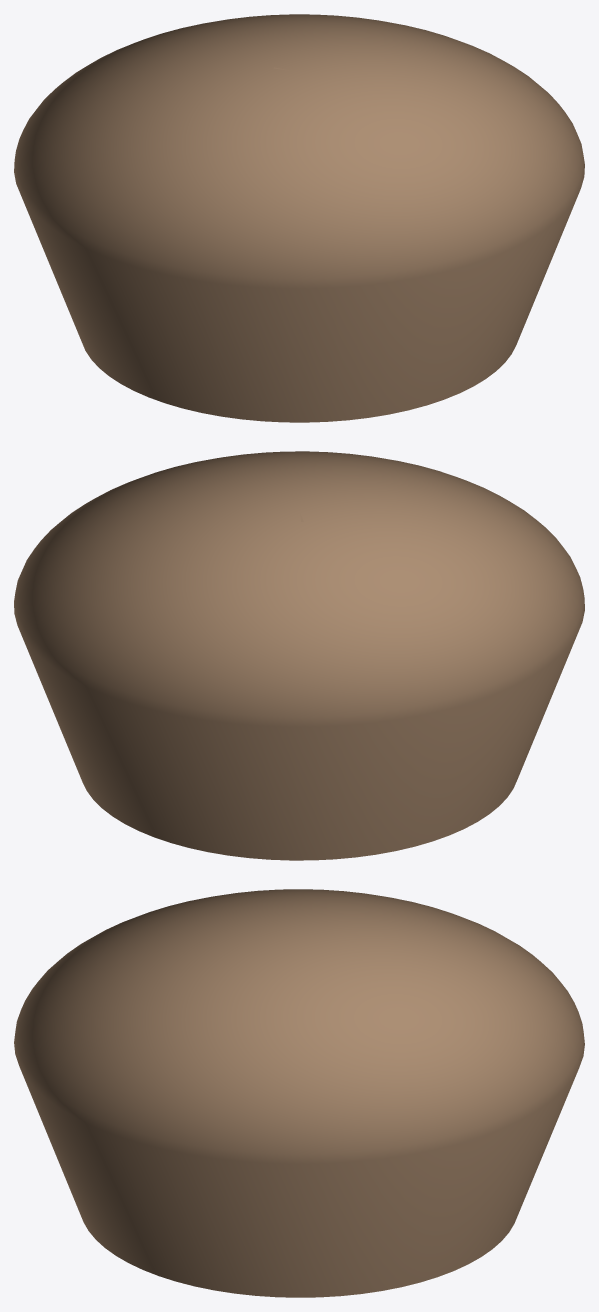
The model's file is Mini_Cake.fbx.
The picture shows the model from 3 angles, top to bottom: view 1: azimuth 30°, elevation 25°; view 2: azimuth 150°, elevation 25°; view 3: azimuth 270°, elevation 25°; orthographic projection.
Visible parts, largest first — view 1: Sphere0018; view 2: Sphere0018; view 3: Sphere0018.
Part boxes in pixels (<box>): Sphere0018: <box>14,14,584,422</box>; Sphere0018: <box>14,451,584,860</box>; Sphere0018: <box>14,889,584,1297</box>.
Size of the model in its own units: 0.742 by 0.3699 by 0.742.
